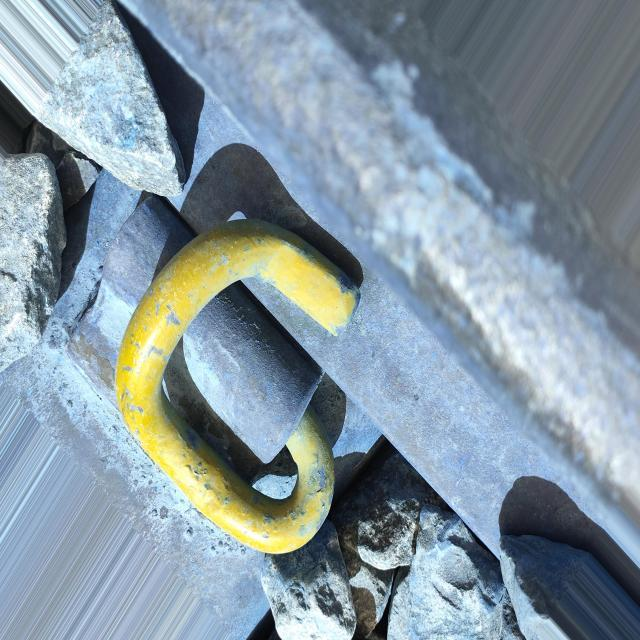Good Fasteners: (67, 199, 360, 554)
